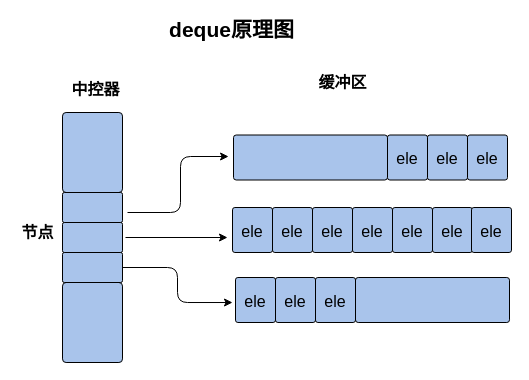
The diagram is 529 pixels wide and 380 high, and some of its shapes have lost their labels. Each missing label, with the box of its shape:
0x01: (62, 192, 122, 222)
0x02: (62, 222, 122, 252)
0x03: (62, 252, 122, 282)
